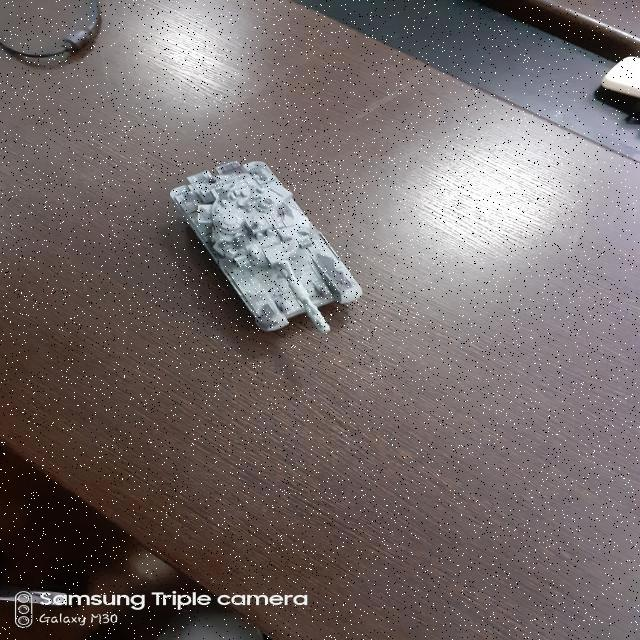MIL_MBT: (170, 159, 364, 333)
